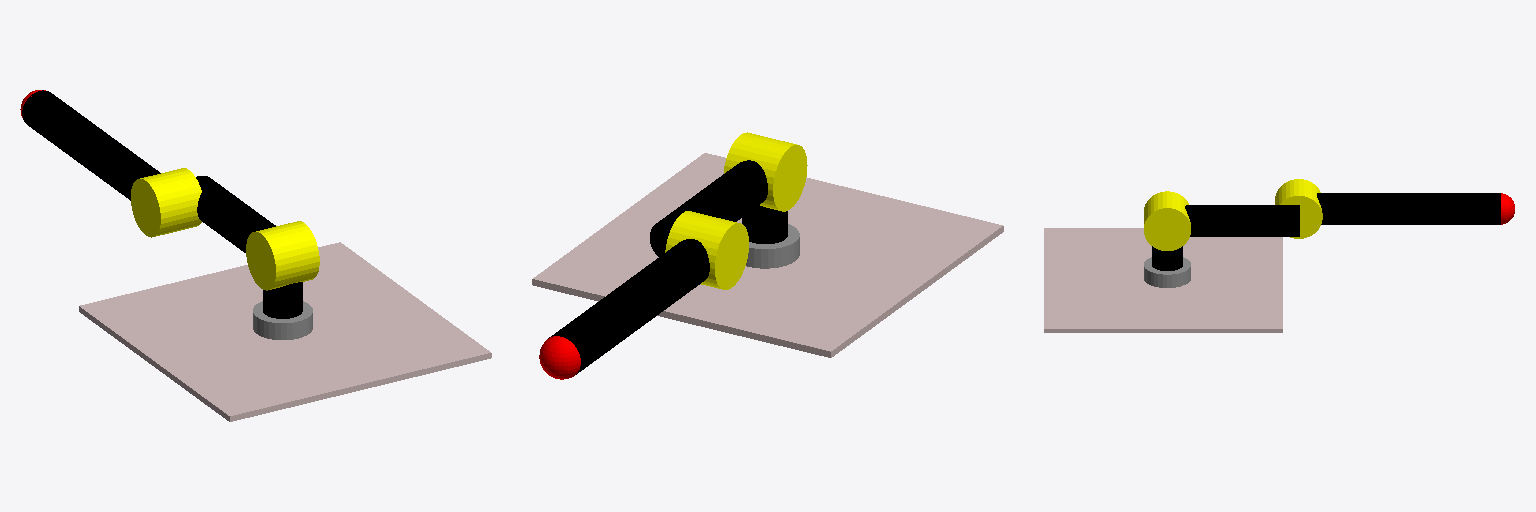
URDF robot description (threeDOF):
<?xml version="1.0"?>

<robot name="threeDOF">
  
  <!-- *************************************************** -->
  <!-- ******************** Kinematics ******************* -->
  <!-- *************************************************** -->
  <!-- Note the 'origin' tag in the joints defines the
       shift and reorientation before the continuous joint
       rotates around the 'axis'. -->

  <link name="world"/>

  <joint name="Thor/1" type="continuous">
    <parent link="world"/>
    <child  link="link1"/>
    <origin xyz="-0.052 -0.2125 0" rpy="0 0 0"/>
    <axis   xyz="0 0 1"/>
  </joint>

  <link name="link1"/>

  <joint name="Thor/4" type="continuous">
    <parent link="link1"/>
    <child  link="link2"/>
    <origin xyz="0 0 .085" rpy="0 0 0"/>
    <axis   xyz="1 0 0"/>
  </joint>

  <link name="link2"/>

  <joint name="Thor/3" type="continuous">
    <parent link="link2"/>
    <child  link="link3"/>
    <origin xyz="-.0368 .1651 0" rpy="0 0 0"/>
    <axis   xyz="-1 0 0"/>
  </joint>

  <link name="link3"/>

  <joint name="shifttotip" type="fixed">
    <parent link="link3"/>
    <child  link="tip"/>
    <origin xyz="0 .2522 0" rpy="0 0 0"/>
  </joint>

  <link name="tip"/>


  <!-- *************************************************** -->
  <!-- ********************* Graphics ******************** -->
  <!-- *************************************************** -->
  <!-- The following is purely to make this look roboticy. -->
  <!-- The 'origin' tag in the link/visual defines the
       center of the object (box, cylinder, sphere, mesh)
       but does not affect the joint chain kinematics. -->

  <!-- *************** Materials / Colors **************** -->

  <material name="white">    <color rgba="1.00 1.00 1.00 1"/>  </material>
  <material name="gray">     <color rgba="0.60 0.60 0.60 1"/>  </material>
  <material name="table">    <color rgba="0.85 0.77 0.77 1"/>  </material>
  <material name="black">    <color rgba="0.00 0.00 0.00 1"/>  </material>

  <material name="red">      <color rgba="1.00 0.00 0.00 1"/>  </material>
  <material name="green">    <color rgba="0.00 1.00 0.00 1"/>  </material>
  <material name="blue">     <color rgba="0.00 0.00 1.00 1"/>  </material>

  <material name="cyan">     <color rgba="0.00 1.00 1.00 1"/>  </material>
  <material name="magenta">  <color rgba="1.00 0.00 1.00 1"/>  </material>
  <material name="yellow">   <color rgba="1.00 1.00 0.00 1"/>  </material>

  <material name="orange">   <color rgba="1.00 0.65 0.00 1"/>  </material>


  <!-- *** Table - attached to world *** -->

  <joint name="attach-table" type="fixed">
    <parent link="world"/>
    <child  link="table"/>
  </joint>

  <link name="table">
    <visual>
      <origin xyz="-0.052 -0.217 .003175" rpy="0 0 0"/>
      <geometry>
	<box size=".3 .3 0.00635"/>
      </geometry>
      <material name="table"/>
    </visual>
  </link>

  <!-- *** Yaw Motor - attached to link 1 *** -->

  <joint name="attach-yawmotor" type="fixed">
    <parent link="link1"/>
    <child  link="yawmotor"/>
  </joint>

  <link name="yawmotor">
    <visual>
      <origin xyz="0 0 0" rpy="0 0 0"/>
      <geometry>
	<cylinder length="0.05" radius="0.03"/>
      </geometry>
      <material name="gray"/>
    </visual>
  </link>

  <!-- *** Link 1 Bar - attached to link1 (yaw joint output) *** -->

  <joint name="attach-link1bar" type="fixed">
    <parent link="link1"/>
    <child  link="link1bar"/>
  </joint>

  <link name="link1bar">
    <visual>
      <origin xyz="0 0 .045" rpy="0 0 0"/>
      <geometry>
	<cylinder length=".09" radius="0.02"/>
      </geometry>
      <material name="black"/>
    </visual>
  </link>

  <!-- *** Pitch 1 Motor - attached to link2 (yaw joint output) *** -->

  <joint name="attach-pitch1motor" type="fixed">
    <parent link="link2"/>
    <child  link="pitch1motor"/>
  </joint>

  <link name="pitch1motor">
    <visual>
      <origin xyz="0 0 0" rpy="0 1.5708 0"/>
      <geometry>
	<cylinder length="0.05" radius="0.03"/>
      </geometry>
      <material name="yellow"/>
    </visual>
  </link>

  <!-- *** Link 2 Bar - attached to link2 (pitch1 joint output) *** -->

  <joint name="attach-link2bar" type="fixed">
    <parent link="link2"/>
    <child  link="link2bar"/>
  </joint>

  <link name="link2bar">
    <visual>
      <origin xyz="0 .0835 0" rpy="-1.5708 0 0"/>
      <geometry>
	<cylinder length=".167" radius="0.02"/>
      </geometry>
      <material name="black"/>
    </visual>
  </link>

  <!-- *** Pitch 2 Motor - attached to link3 -->

  <joint name="attach-pitch2motor" type="fixed">
    <parent link="link3"/>
    <child  link="pitch2motor"/>
  </joint>

  <link name="pitch2motor">
    <visual>
      <origin xyz="0 0 0" rpy="0 1.5708 0"/>
      <geometry>
	<cylinder length="0.05" radius="0.03"/>
      </geometry>
      <material name="yellow"/>
    </visual>
  </link>

  <!-- *** Link 3 Bar - attached to link3 (pitch2 joint output) *** -->

  <joint name="attach-link3bar" type="fixed">
    <parent link="link3"/>
    <child  link="link3bar"/>
  </joint>

  <link name="link3bar">
    <visual>
      <origin xyz="0 .127 0" rpy="-1.5708 0 0"/>
      <geometry>
	<cylinder length=".254" radius="0.02"/>
      </geometry>
      <material name="black"/>
    </visual>
  </link>

  <!-- *** Link 3 Sail - attached to link3 (pitch2 joint output) *** -->

  <!-- *** Tip Ball - attached to tip *** -->

  <joint name="attach-tipball" type="fixed">
    <parent link="tip"/>
    <child  link="tipball"/>
  </joint>

  <link name="tipball">
    <visual>
      <origin xyz="0 0 0" rpy="0 0 0"/>
      <geometry>
      	<sphere radius="0.02"/>
      </geometry>
      <material name="red"/>
    </visual>
  </link>

</robot>

--- Render facts (derived) ---
The picture shows the robot from 3 angles, left to right: view 1: azimuth 30°, elevation 25°; view 2: azimuth 150°, elevation 25°; view 3: azimuth 270°, elevation 25°; orthographic projection.
Model threeDOF with 13 links and 12 joints (3 continuous, 9 fixed), rooted at world, posed every joint at zero.
Visible links, largest first — view 1: table, link3bar, pitch1motor, pitch2motor, link2bar, yawmotor, link1bar; view 2: table, link3bar, link2bar, pitch2motor, pitch1motor, yawmotor, tipball, link1bar; view 3: table, link3bar, link2bar, pitch1motor, pitch2motor, yawmotor, link1bar.
Boxes of the visible links, left/top/right/bottom form: table: left=79, top=242, right=491, bottom=421; link3bar: left=22, top=90, right=160, bottom=200; pitch1motor: left=246, top=221, right=319, bottom=290; pitch2motor: left=131, top=168, right=201, bottom=237; link2bar: left=196, top=176, right=275, bottom=252; yawmotor: left=253, top=301, right=312, bottom=339; link1bar: left=263, top=282, right=302, bottom=318; table: left=532, top=153, right=1003, bottom=357; link3bar: left=548, top=239, right=709, bottom=374; link2bar: left=650, top=160, right=767, bottom=256; pitch2motor: left=665, top=211, right=748, bottom=289; pitch1motor: left=724, top=132, right=807, bottom=211; yawmotor: left=746, top=224, right=799, bottom=268; tipball: left=539, top=336, right=580, bottom=379; link1bar: left=742, top=205, right=787, bottom=243; table: left=1044, top=228, right=1282, bottom=332; link3bar: left=1317, top=193, right=1500, bottom=224; link2bar: left=1185, top=205, right=1299, bottom=236; pitch1motor: left=1144, top=191, right=1190, bottom=250; pitch2motor: left=1275, top=179, right=1322, bottom=238; yawmotor: left=1144, top=257, right=1190, bottom=287; link1bar: left=1152, top=246, right=1182, bottom=270.
Size in the robot's own frame: 0.3 by 0.5918 by 0.14 metres.
Geometry: primitives only (box / cylinder / sphere), no mesh files.
